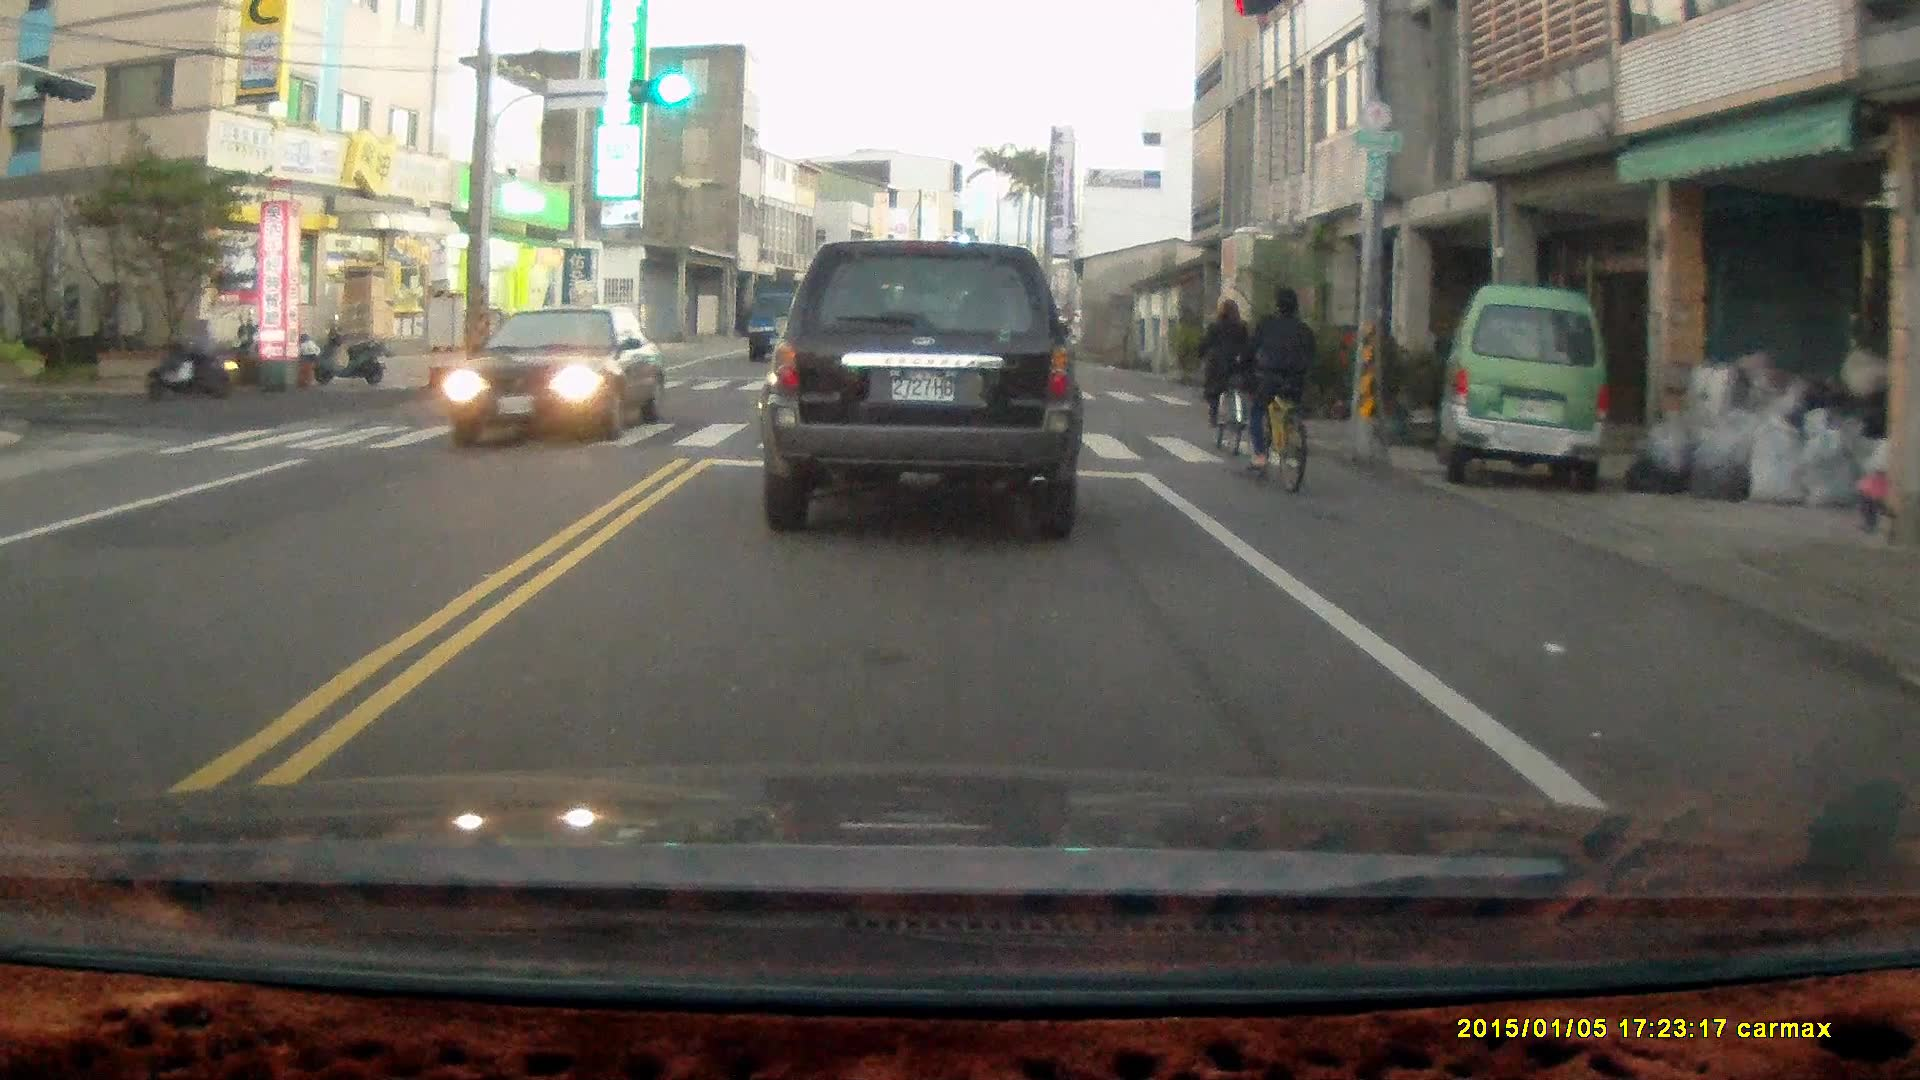rider: (1236, 279, 1319, 487), (1191, 299, 1255, 455), (143, 306, 234, 397)
vehicle: (760, 238, 1084, 542), (1439, 286, 1615, 493), (449, 302, 670, 446), (737, 283, 827, 363)
